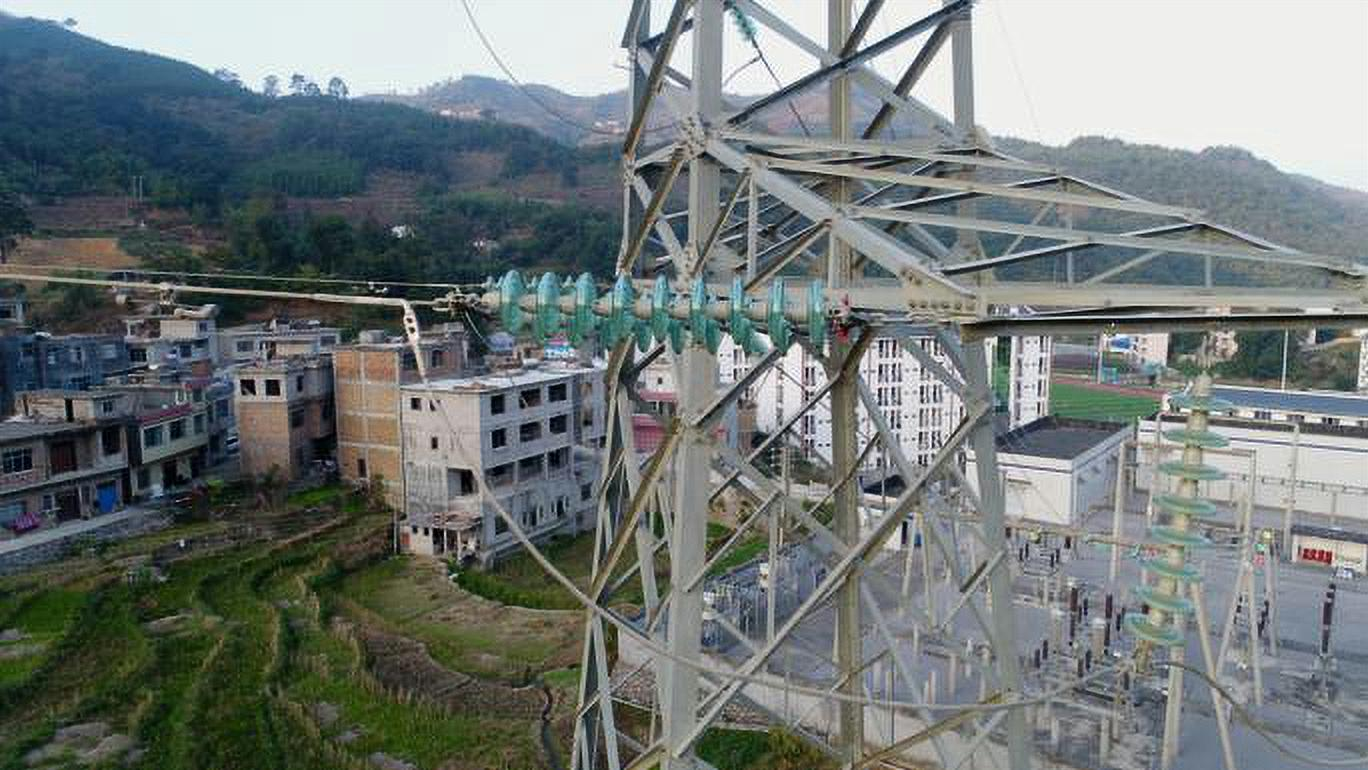insulator: (1118, 387, 1242, 655), (496, 265, 832, 361)
